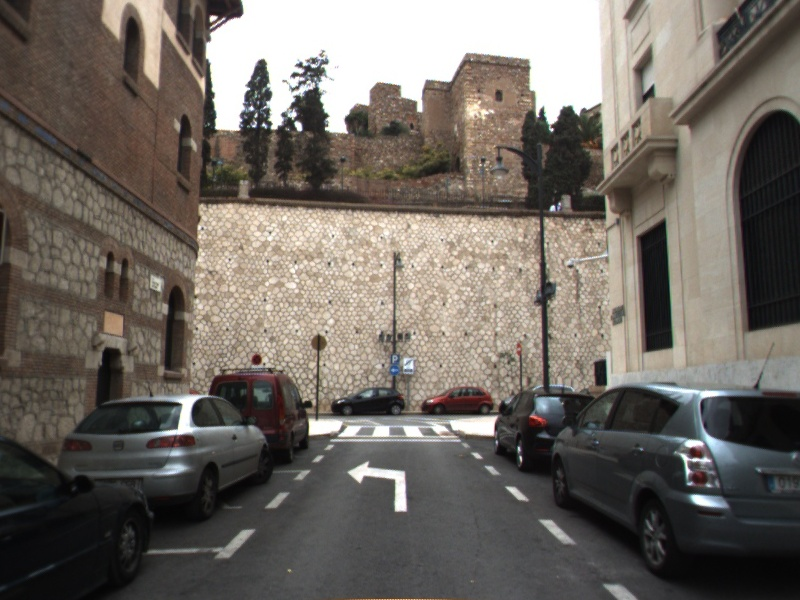LEFT: (345, 458, 410, 514)
